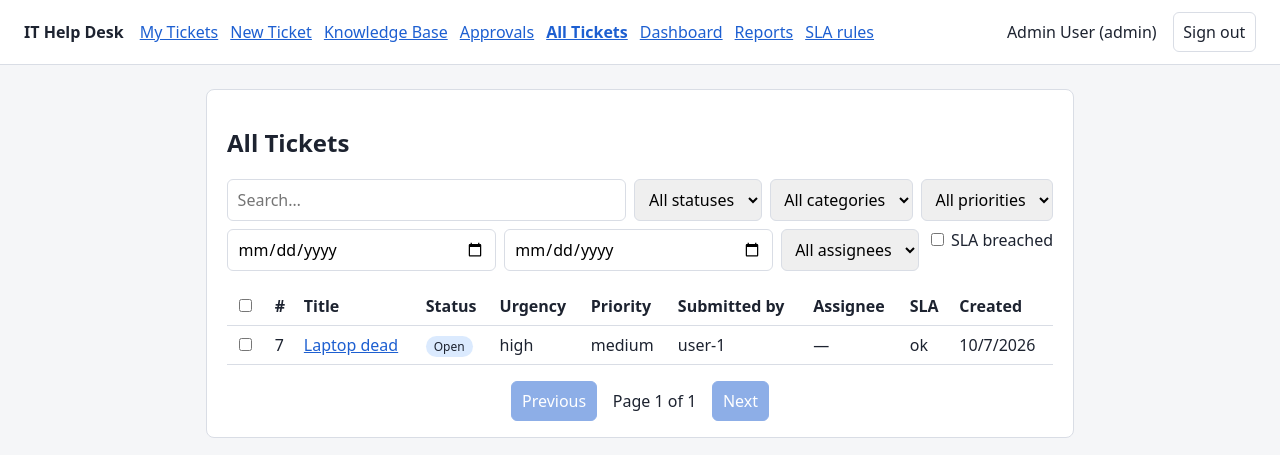
Scenario: admin › All Tickets lists everyone with admin columns and category filter
This screenshot has width=1280, height=455.
Expected: the heading "All Tickets" is shown, [227,126,349,159]
Expected: the column heading "Submitted by" is shown, [670,287,805,325]
Select "Incident" in the dropdown named "Filter by category" at (841, 200), box [770,179,913,221]
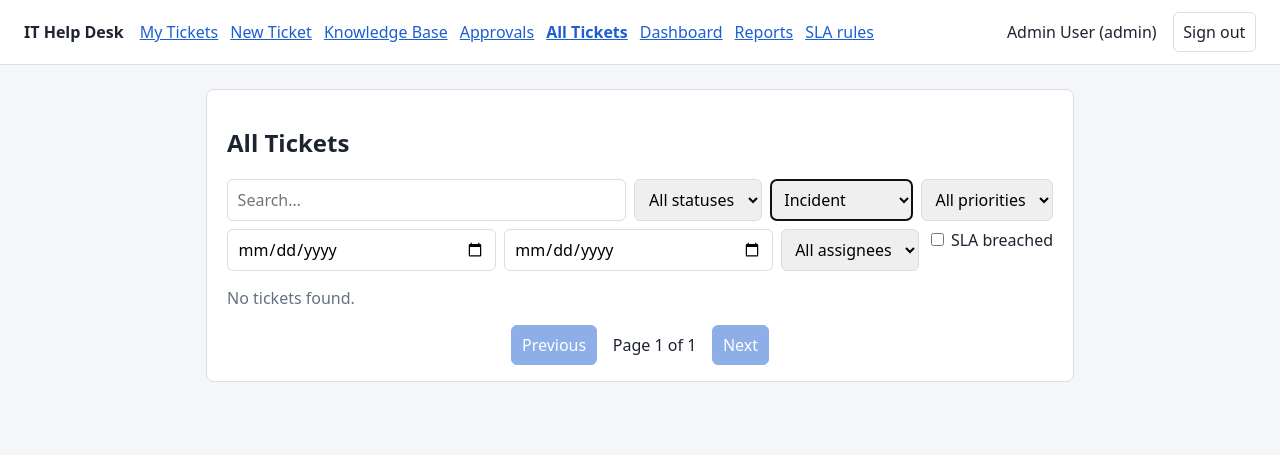
Expected: the text "No tickets found." is shown, [227,287,355,309]
